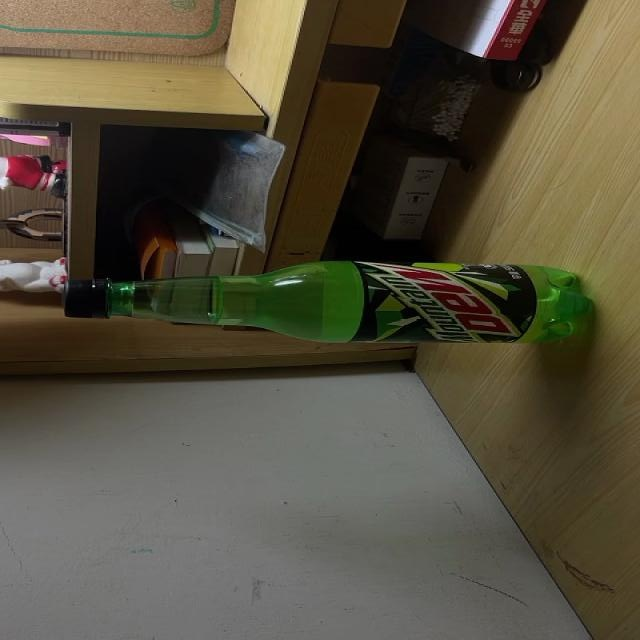Mountain-Dew: (62, 261, 588, 344)
